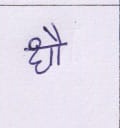ai_matra: (43, 24, 67, 43)
